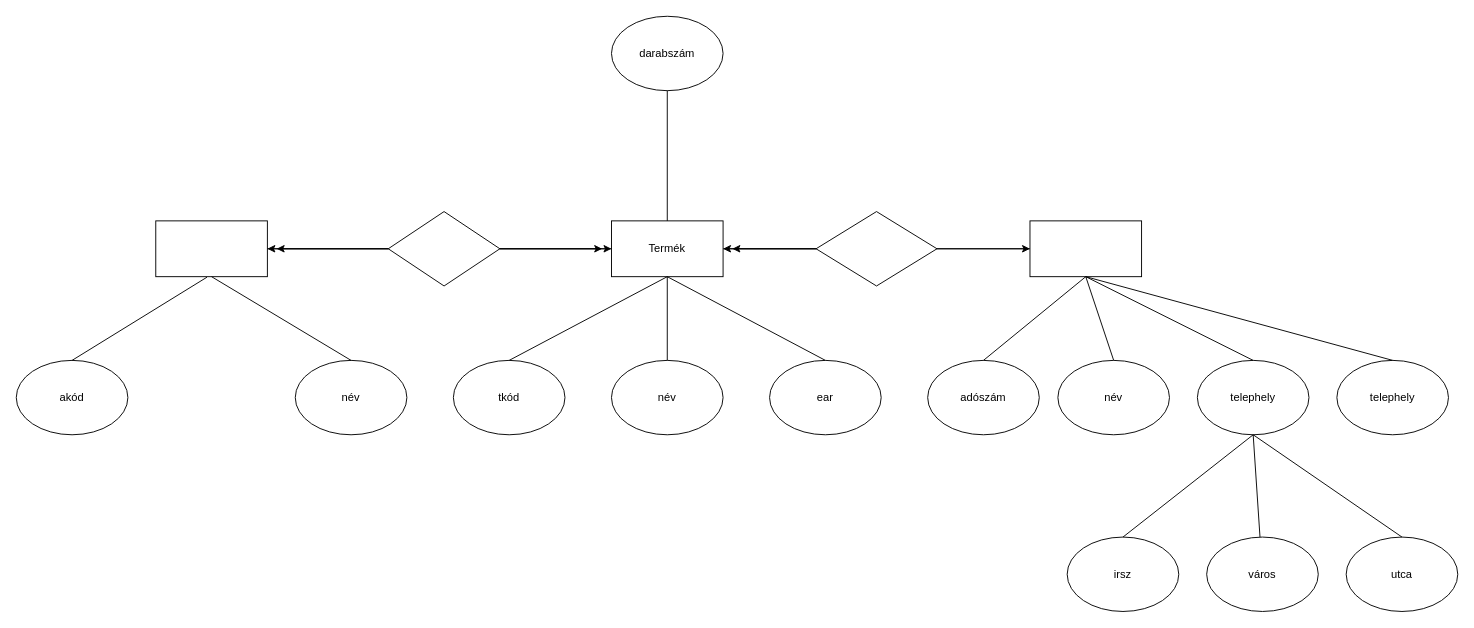
Some shapes in this 1474 by 628 pixel diagram are drawn without their labels. The shapes that lost their labels are listed below. From the top down, each one's centre as x and y in pixels, then its label:
the point at 211,248: alkatrész
the point at 443,248: A_T
the point at 876,248: T_GY
the point at 1085,248: Gyártó
